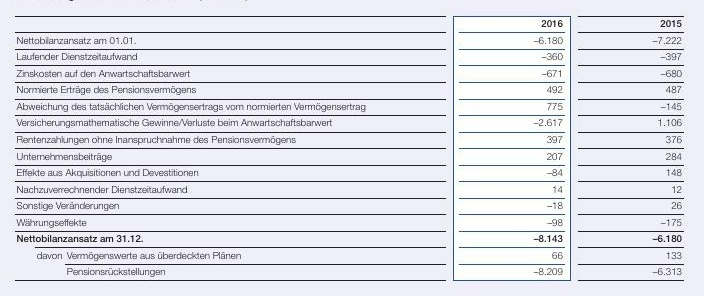table: (0, 0, 704, 296)
